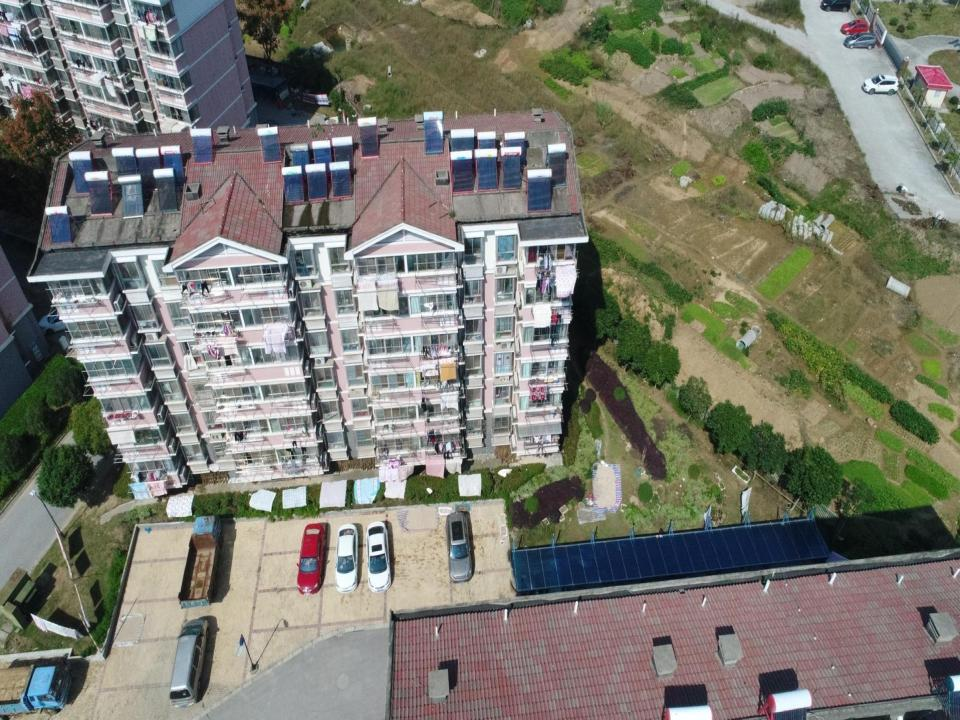car: (297, 524, 326, 595), (445, 512, 472, 583), (366, 522, 391, 592), (334, 524, 359, 593), (862, 75, 898, 95), (841, 20, 868, 36), (820, 0, 850, 13)
truck: (177, 515, 223, 609), (0, 664, 72, 719)
van: (169, 618, 210, 708), (844, 31, 876, 50)
